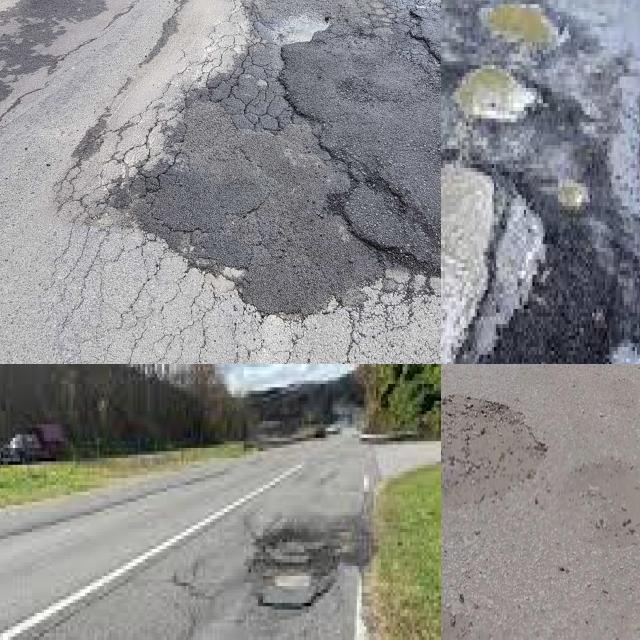Pothole: (170, 492, 371, 640), (441, 164, 545, 364), (441, 390, 547, 514), (453, 65, 537, 122), (479, 0, 552, 46), (278, 10, 330, 46)
